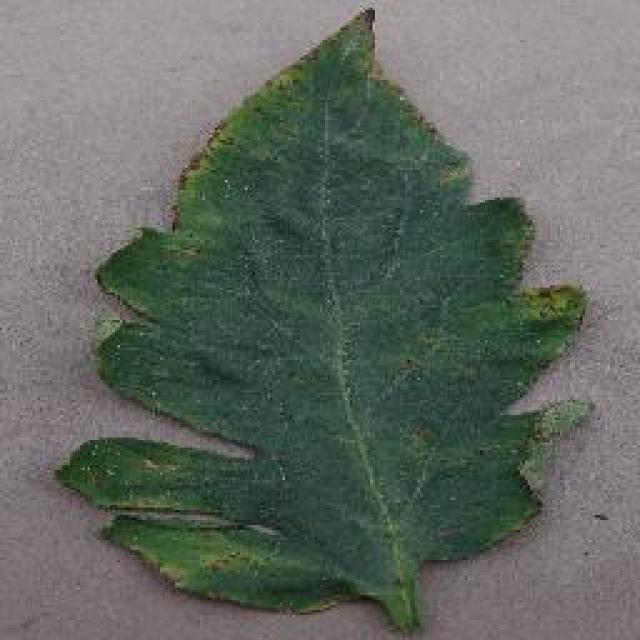Tomato___Bacterial_spot: (44, 0, 604, 633)
